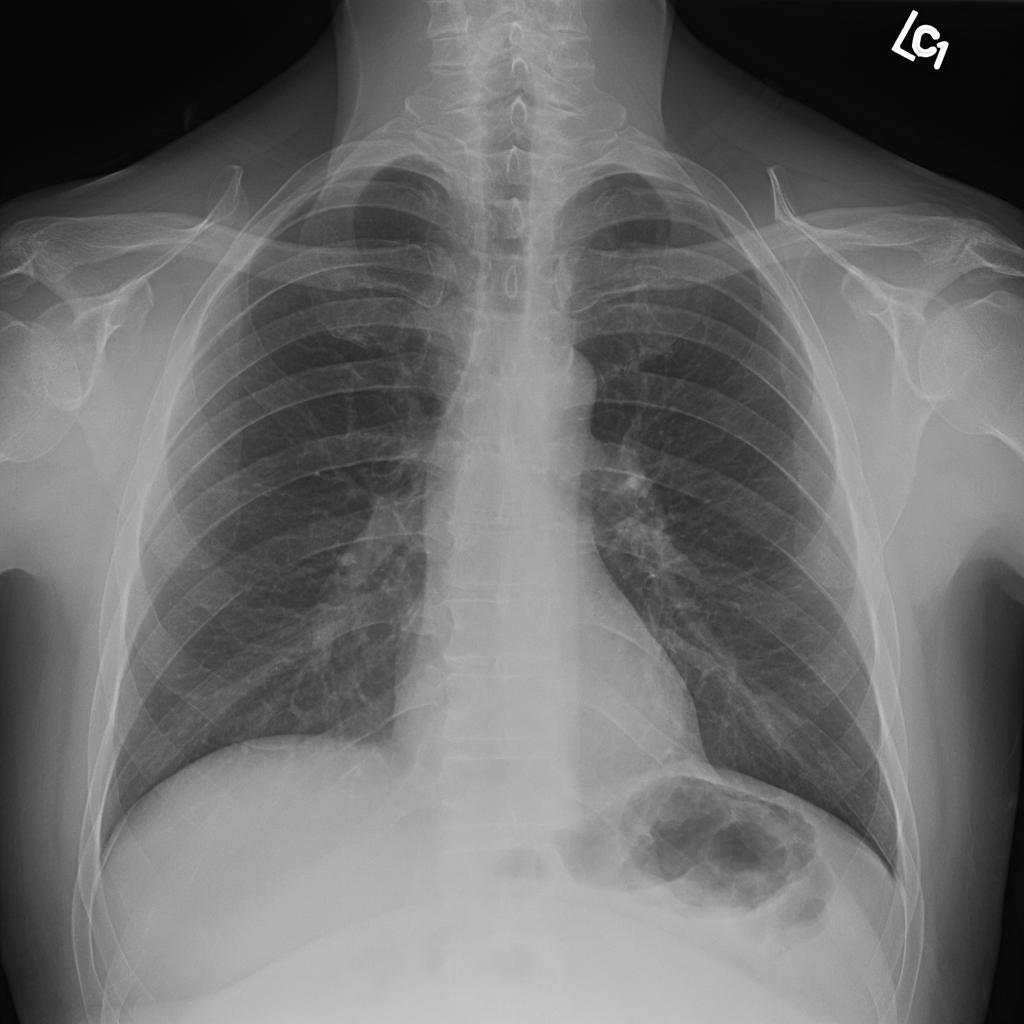Nodule: (309, 252, 350, 295)
